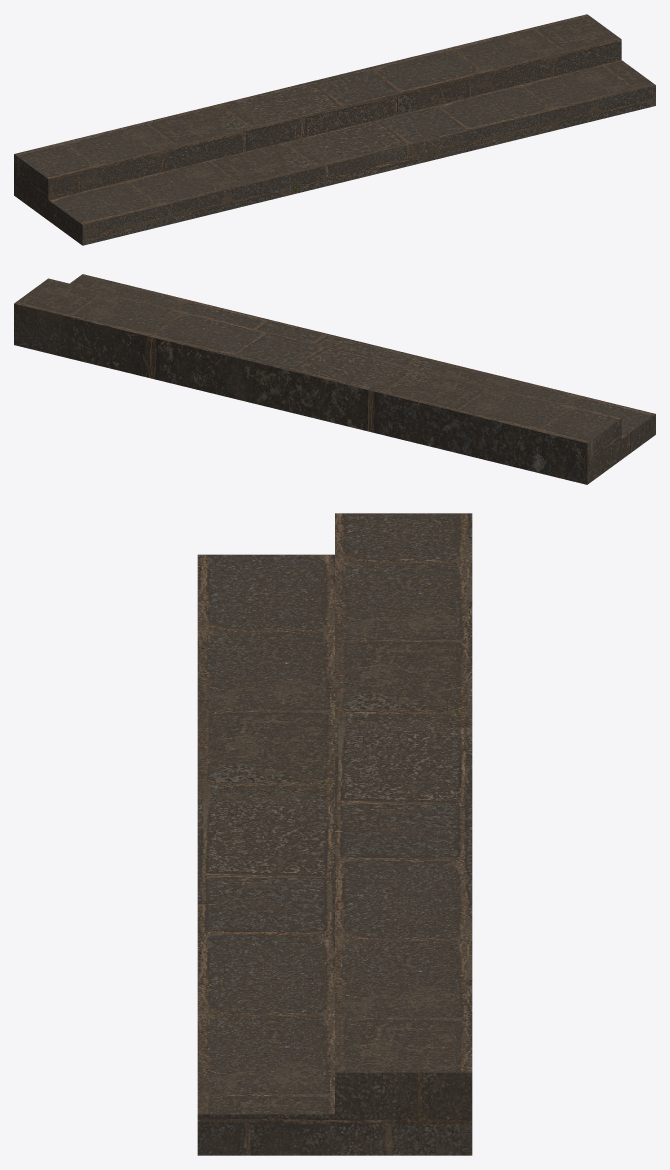
The model's file is Tangga.fbx.
3 views of the same model, one above another, from view 1: azimuth 30°, elevation 25°; view 2: azimuth 150°, elevation 25°; view 3: azimuth 270°, elevation 25° (orthographic). The views are drawn at different scales.
Visible parts, largest first — view 1: Tangga_Baked; view 2: Tangga_Baked; view 3: Tangga_Baked.
Part boxes in pixels (x1=…): Tangga_Baked: x1=14, y1=14, x2=655, y2=245; Tangga_Baked: x1=14, y1=274, x2=655, y2=484; Tangga_Baked: x1=197, y1=513, x2=472, y2=1155.
Bounding box in the file's own units: 434 × 30 × 90.
Materials: 1 (1 with a texture image).
